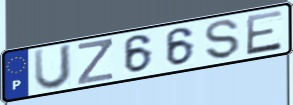6: (122, 34, 155, 76), (164, 27, 197, 68)
E: (244, 8, 284, 57)
S: (203, 18, 242, 60)
U: (32, 42, 74, 91)
Z: (76, 37, 115, 87)
